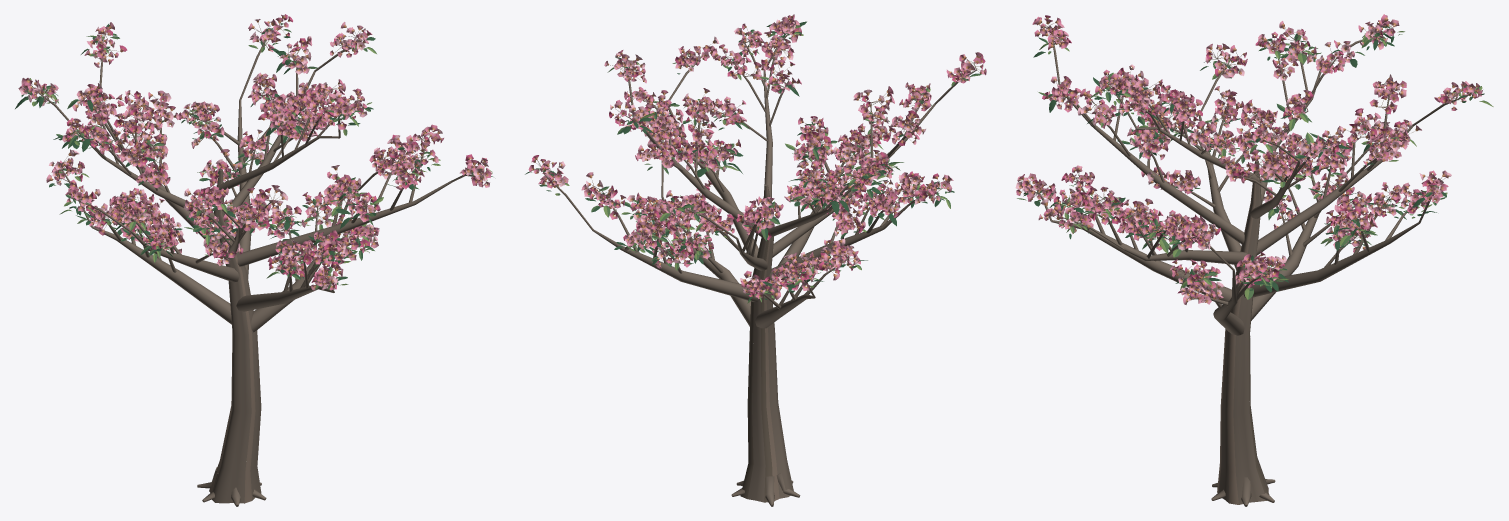
3 renders of one model, left to right at view 1: azimuth 30°, elevation 25°; view 2: azimuth 150°, elevation 25°; view 3: azimuth 270°, elevation 25°, orthographic. The views are drawn at different scales.
Parts seen in each view (by area): view 1: Seasonal Flowers, Scaffold and Twigs, Trunk and Roots, Scattered Greenery; view 2: Seasonal Flowers, Scaffold and Twigs, Trunk and Roots, Scattered Greenery; view 3: Seasonal Flowers, Scaffold and Twigs, Trunk and Roots, Scattered Greenery.
Part boxes in pixels (x1=…): Seasonal Flowers: x1=18, y1=14, x2=491, y2=290; Scaffold and Twigs: x1=31, y1=17, x2=485, y2=332; Trunk and Roots: x1=197, y1=169, x2=266, y2=506; Scattered Greenery: x1=15, y1=23, x2=492, y2=289; Seasonal Flowers: x1=528, y1=14, x2=986, y2=299; Scaffold and Twigs: x1=535, y1=17, x2=979, y2=328; Trunk and Roots: x1=731, y1=184, x2=800, y2=506; Scattered Greenery: x1=525, y1=21, x2=981, y2=303; Seasonal Flowers: x1=1015, y1=14, x2=1482, y2=304; Scaffold and Twigs: x1=1022, y1=21, x2=1475, y2=335; Trunk and Roots: x1=1211, y1=160, x2=1275, y2=506; Scattered Greenery: x1=1017, y1=26, x2=1493, y2=299.
Bounding box in the file's own units: 6.56 × 7.53 × 7.38.
